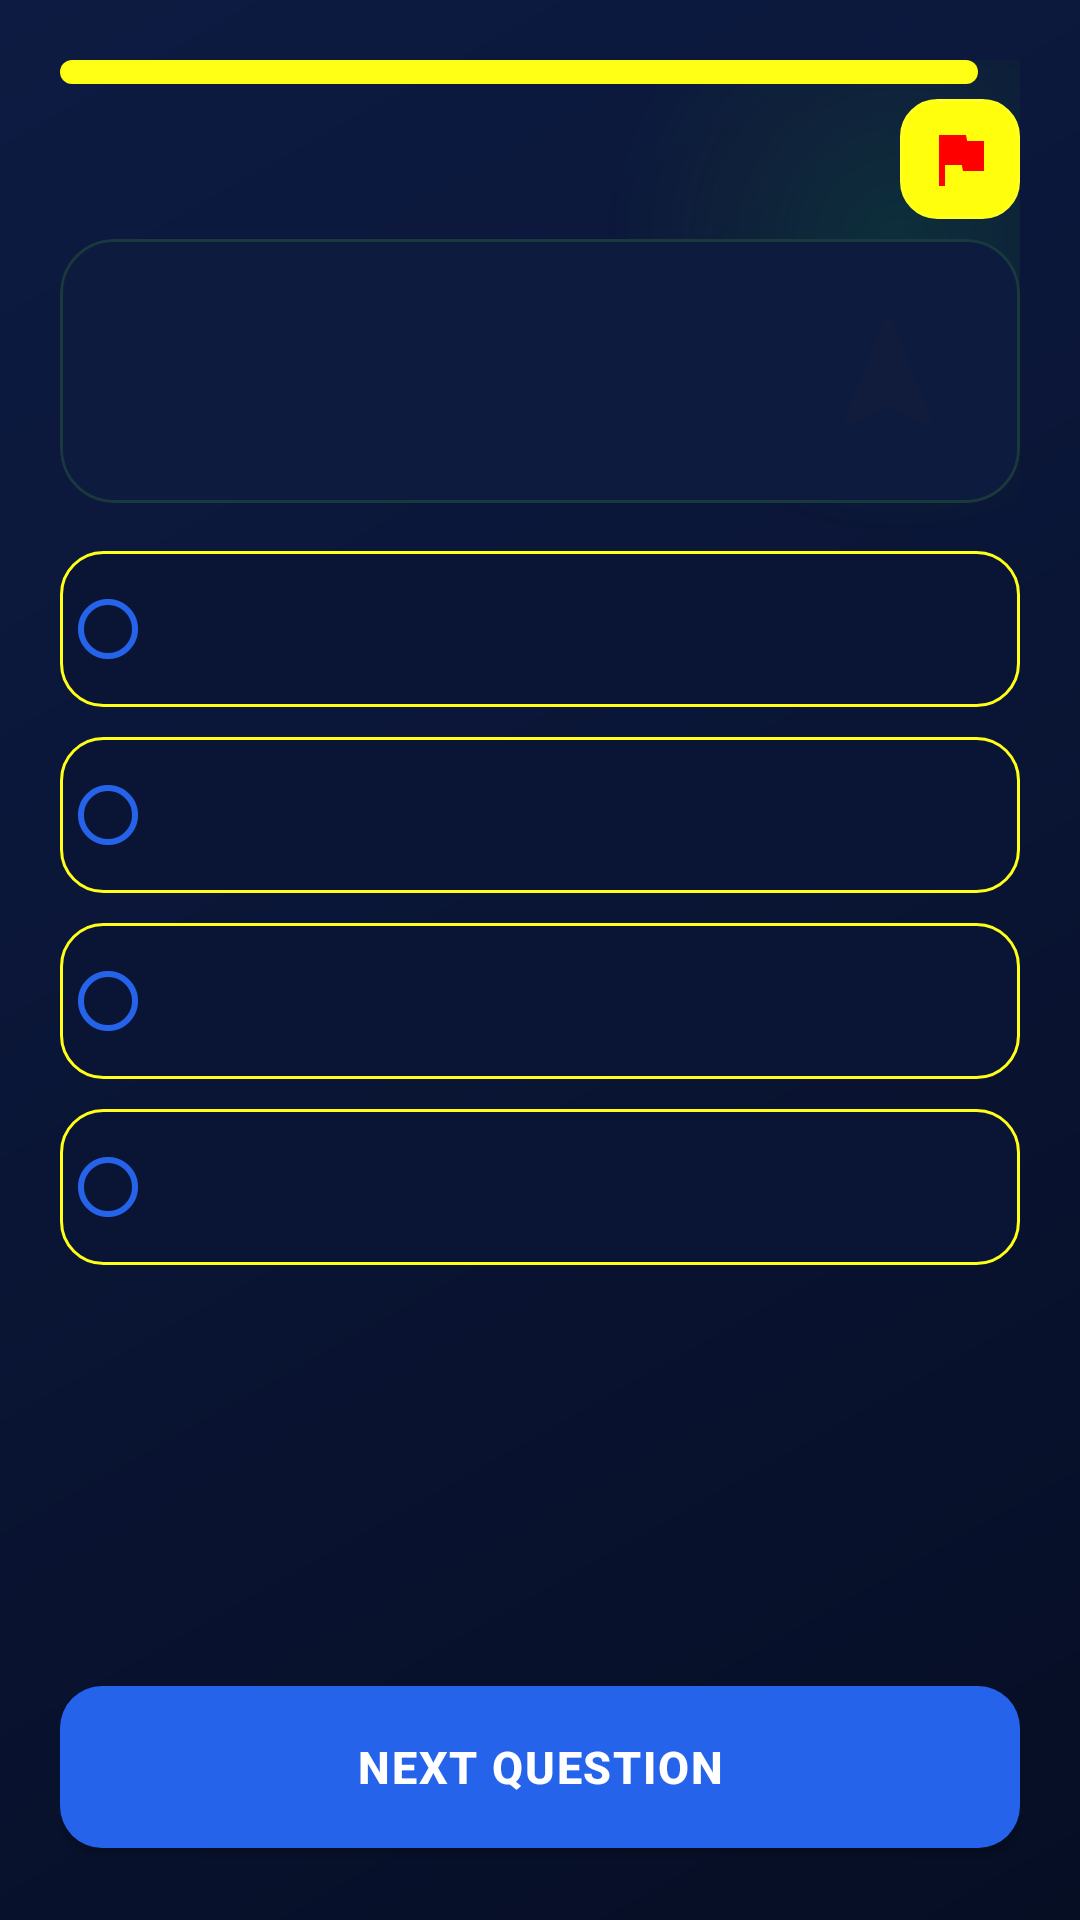

Icon click points for this 1080 × 1920 phone screenshot, format (x=x, y=y):
Flag Question: (x=960, y=159)
